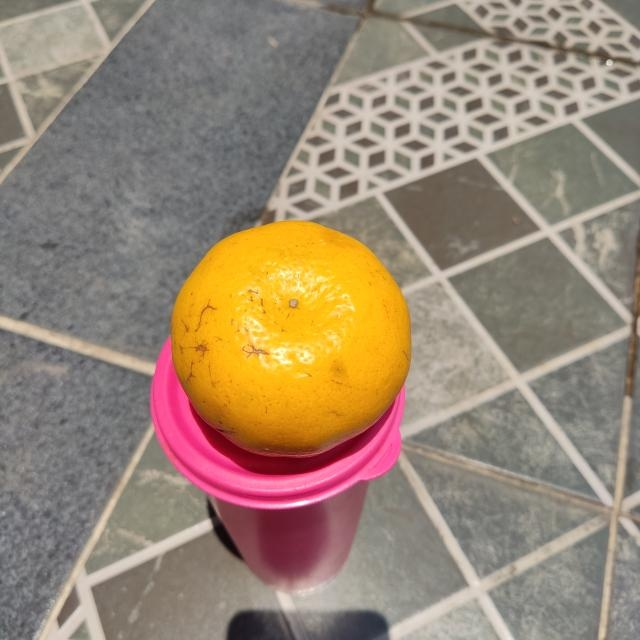agrume: (170, 218, 411, 462)
